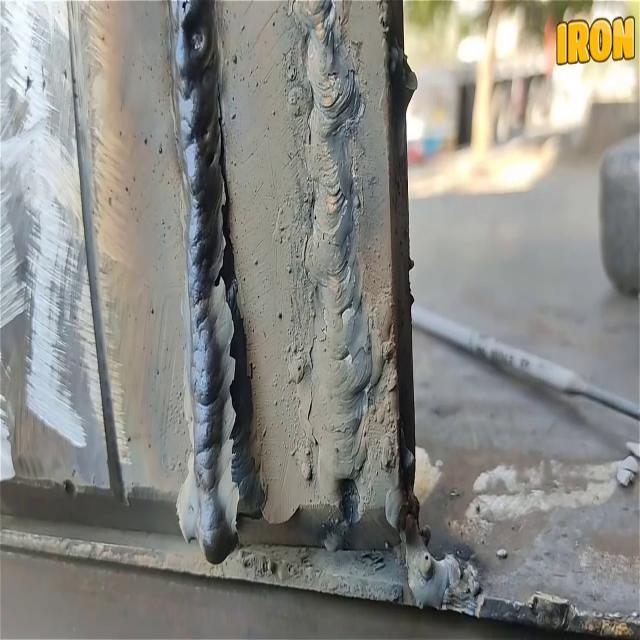Bad Weld: (162, 0, 270, 566), (285, 0, 375, 529)
Defect: (213, 87, 263, 526)
